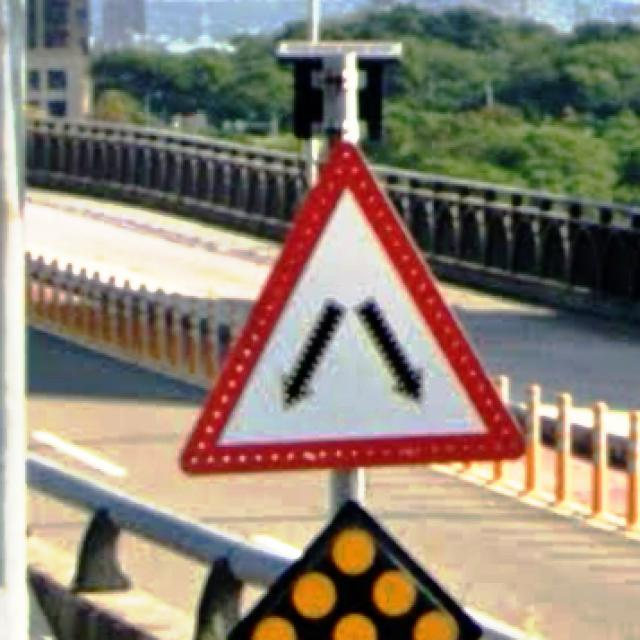diverge: (176, 134, 527, 477)
